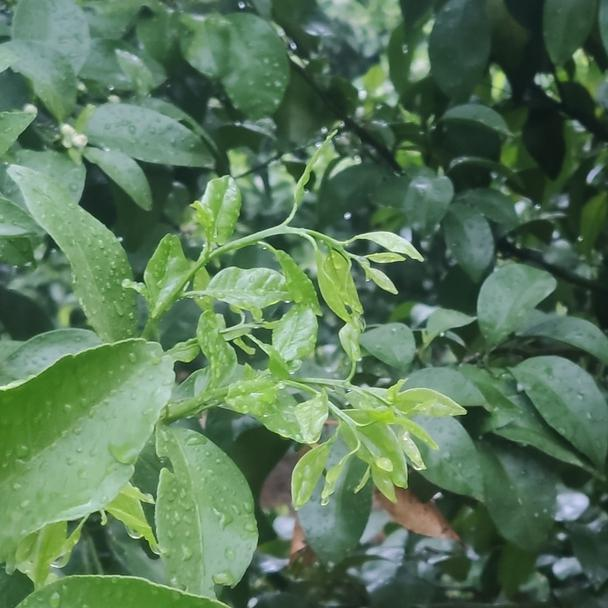shoot: (154, 169, 408, 332), (202, 343, 437, 509)
